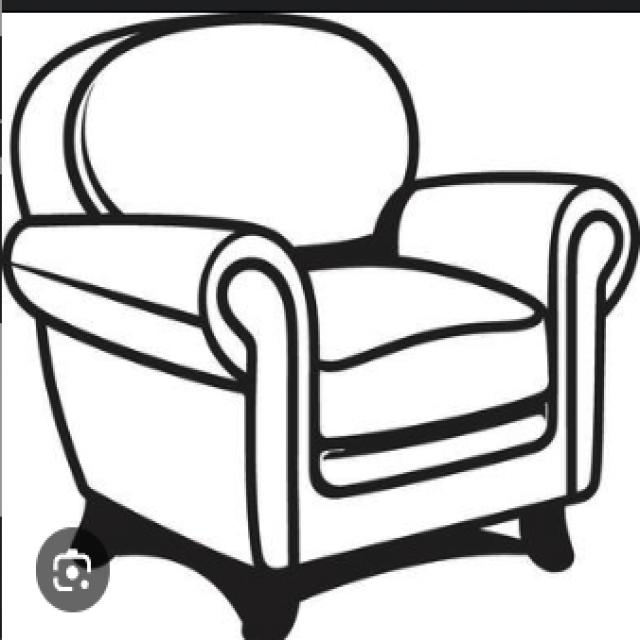Backrest: (11, 16, 421, 264)
Seat: (308, 253, 552, 492)
sofa_armrest: (0, 218, 321, 566), (394, 177, 638, 503)
